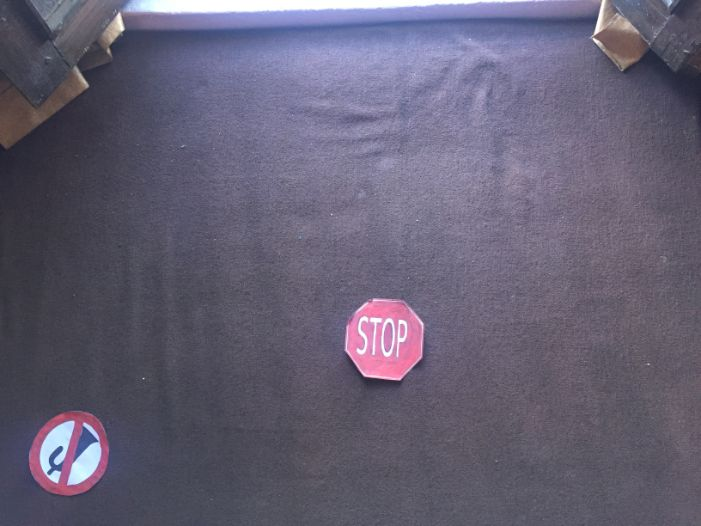no-horn: (29, 410, 110, 494), (344, 299, 423, 384)
